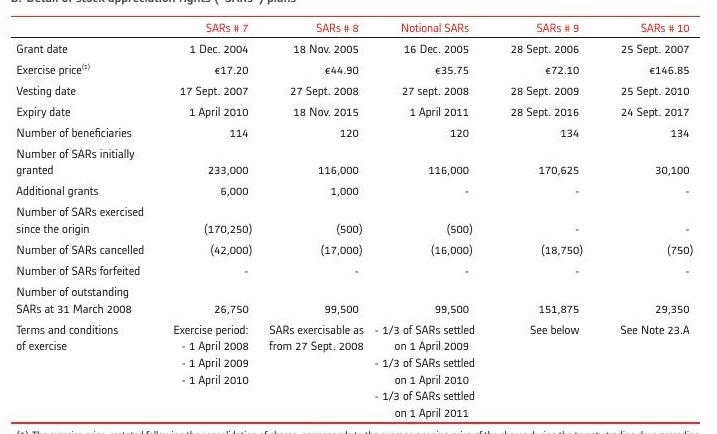table: (0, 0, 717, 434)
